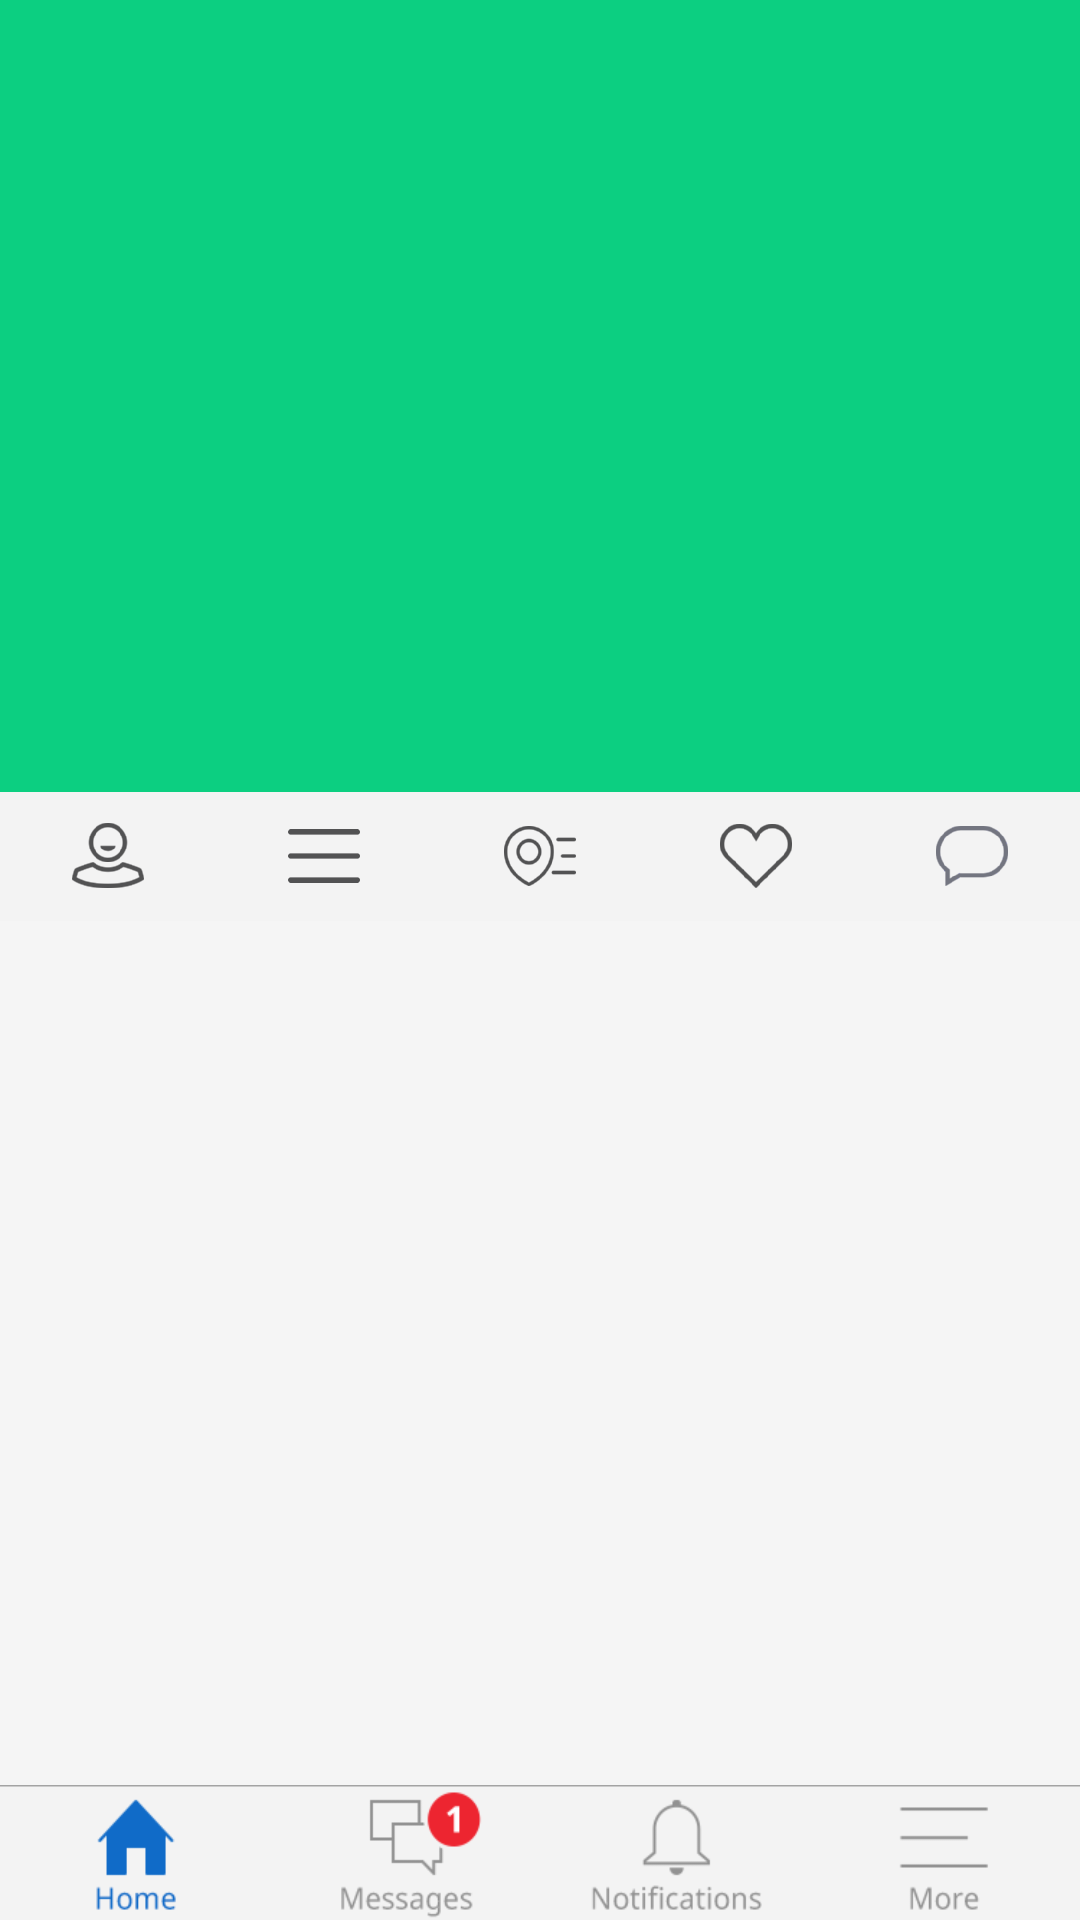

Screen size 1080×1920. Icon name, then its box in pixels as (x1, y1, x2, y2):
comments: (936, 826, 1008, 886)
feed: (288, 829, 360, 883)
likes: (720, 824, 792, 888)
locations: (504, 826, 576, 886)
profile: (72, 823, 144, 888)
